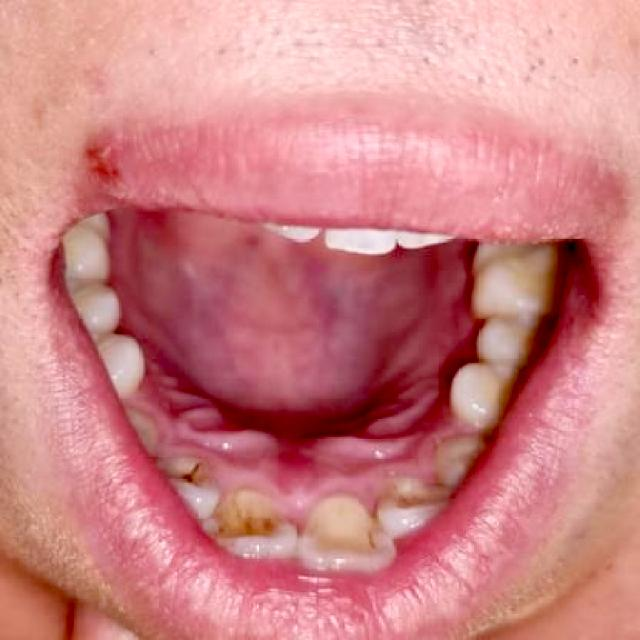Plaque: (209, 505, 275, 537), (174, 459, 205, 492), (351, 527, 380, 557)
